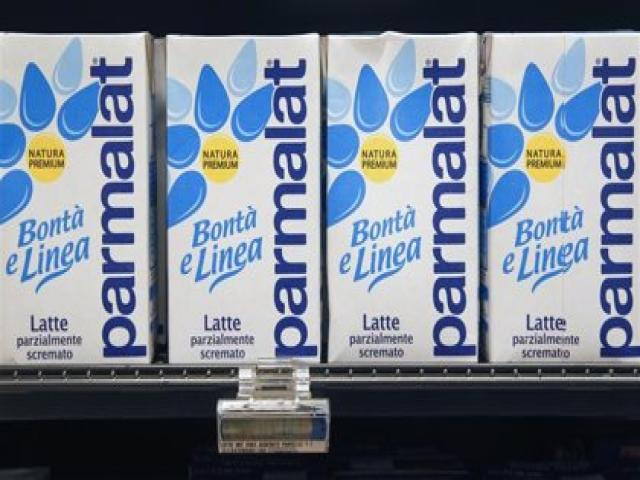drink_box: (164, 28, 326, 373), (0, 21, 157, 373), (329, 28, 482, 371), (487, 27, 640, 368)
